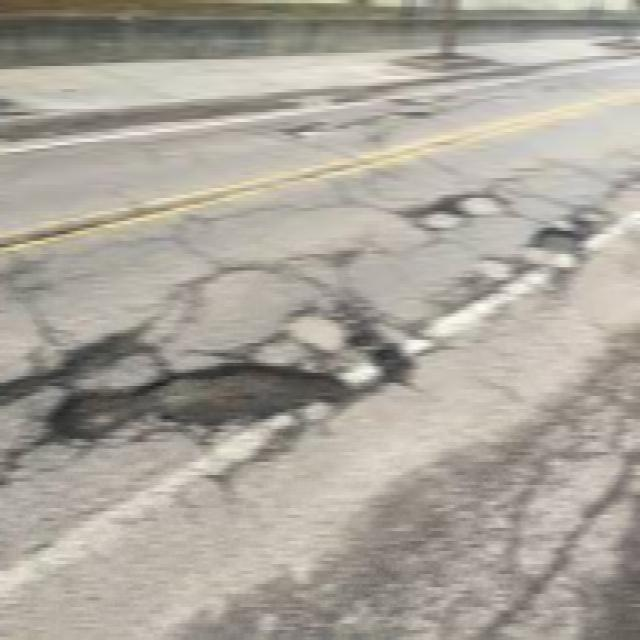Pothole: (50, 362, 355, 438), (516, 236, 600, 286), (279, 293, 355, 348), (458, 192, 514, 222), (417, 210, 464, 232)
